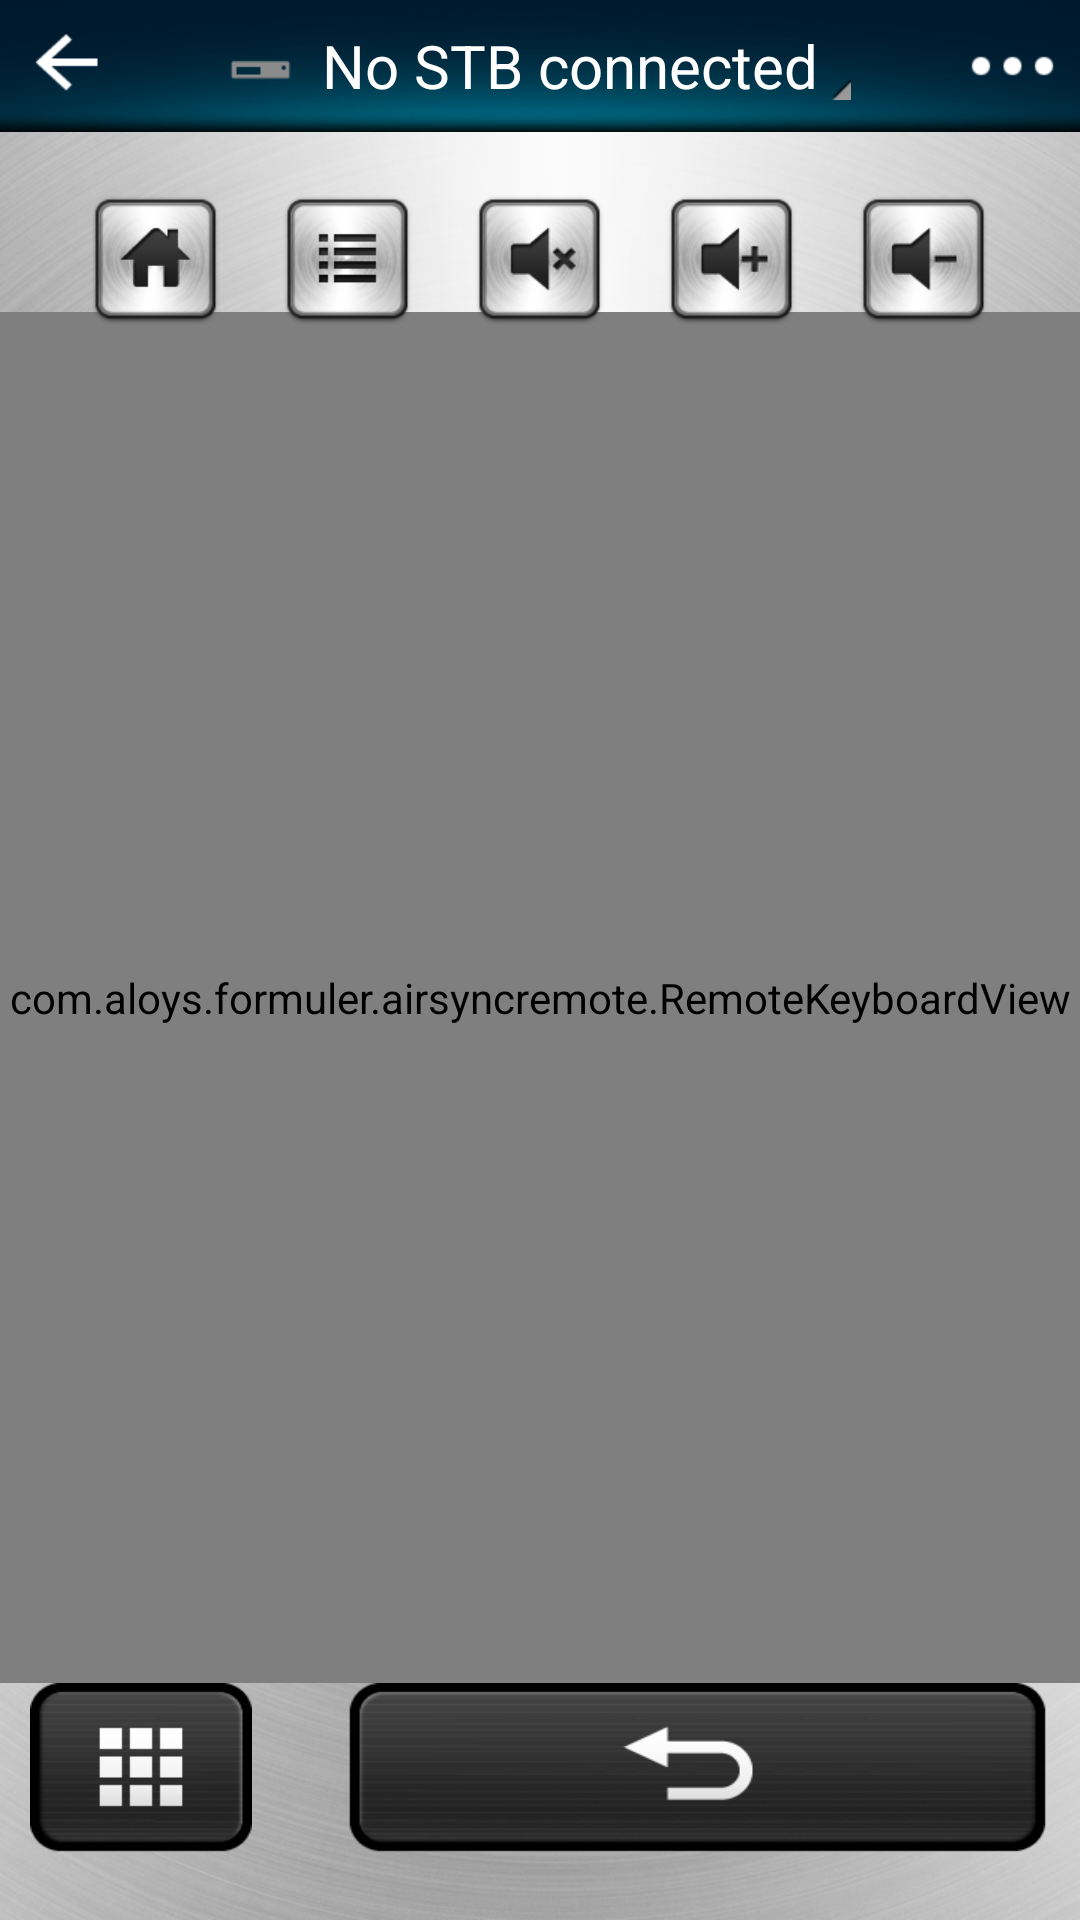

Named icons in this screenshot (1080px x 1920px) and their centers, [x,y]:
remote child home: [155,260]
remote child menu: [347,260]
remote child mute: [539,262]
remote child volume max: [731,260]
remote status back: [66,62]
